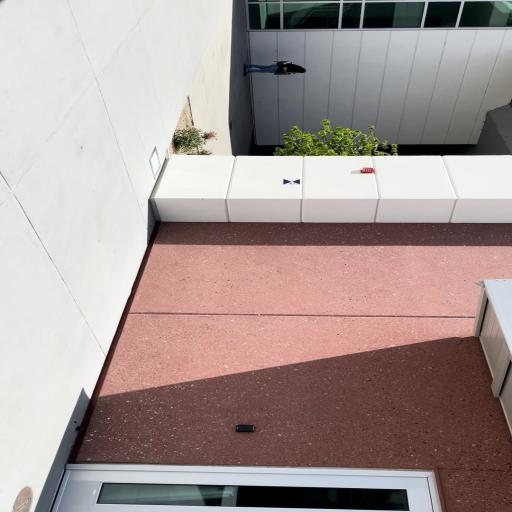target2: (281, 178, 301, 185)
